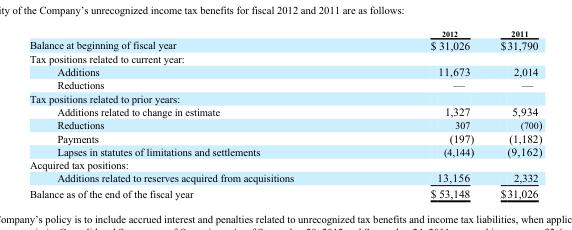table: (28, 28, 541, 198)
table column: (28, 28, 361, 198), (361, 28, 486, 198), (486, 28, 541, 198)
table column header: (28, 28, 541, 38)
table projected row header: (28, 51, 541, 64), (28, 91, 541, 104), (28, 157, 541, 170)
table row: (28, 170, 541, 185), (28, 64, 541, 78), (28, 117, 541, 131), (28, 38, 541, 51), (28, 51, 541, 64), (28, 78, 541, 91), (28, 91, 541, 104), (28, 104, 541, 117), (28, 131, 541, 144), (28, 144, 541, 157), (28, 157, 541, 170), (28, 185, 541, 198), (28, 28, 541, 38)
